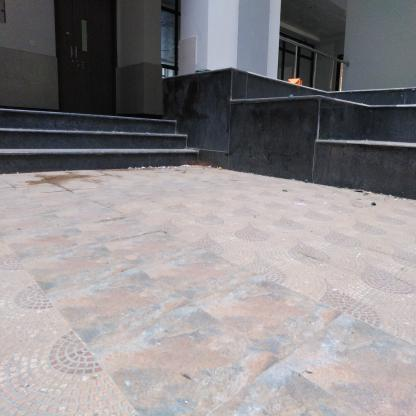stairs: (1, 118, 173, 175)
